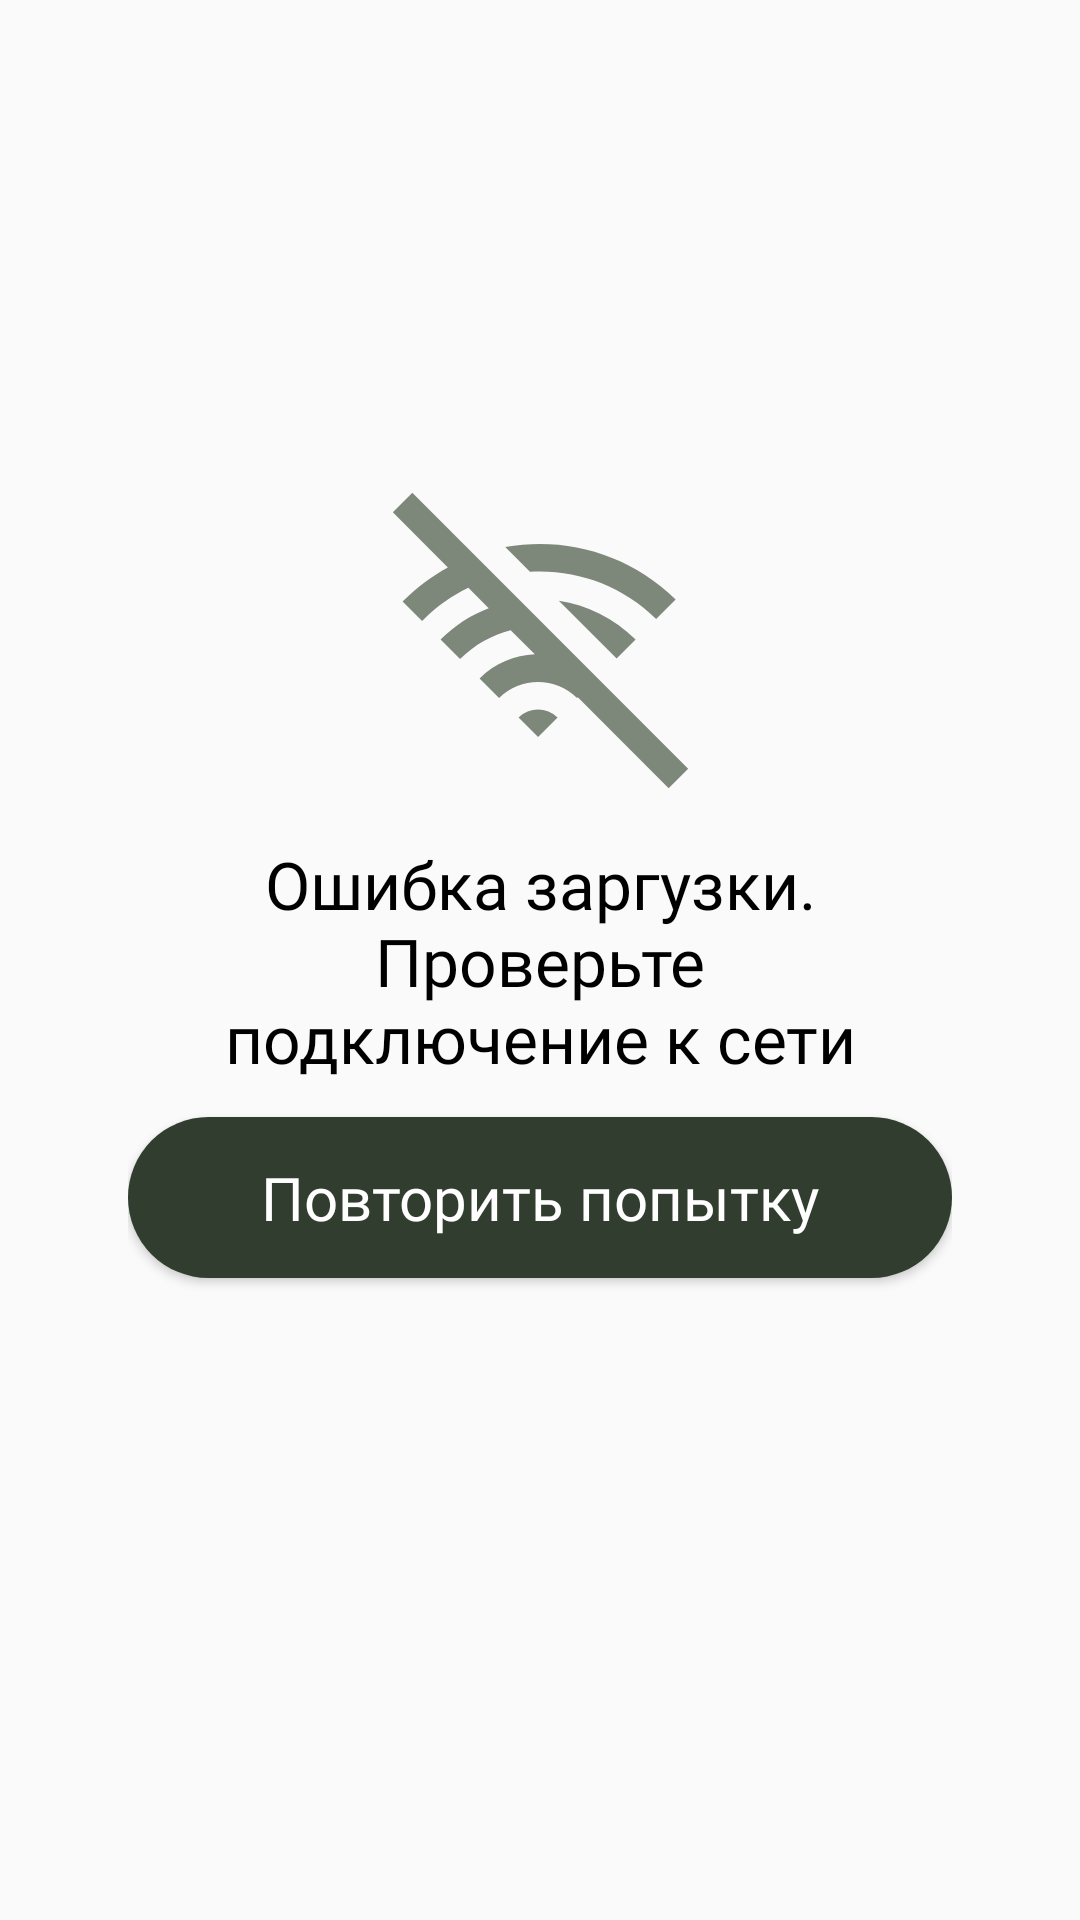

Locate icon controls on the screen. Image size 1080 × 1920, boxes as (x1, y1, x2, y2).
nowifi: (393, 493, 688, 788)
